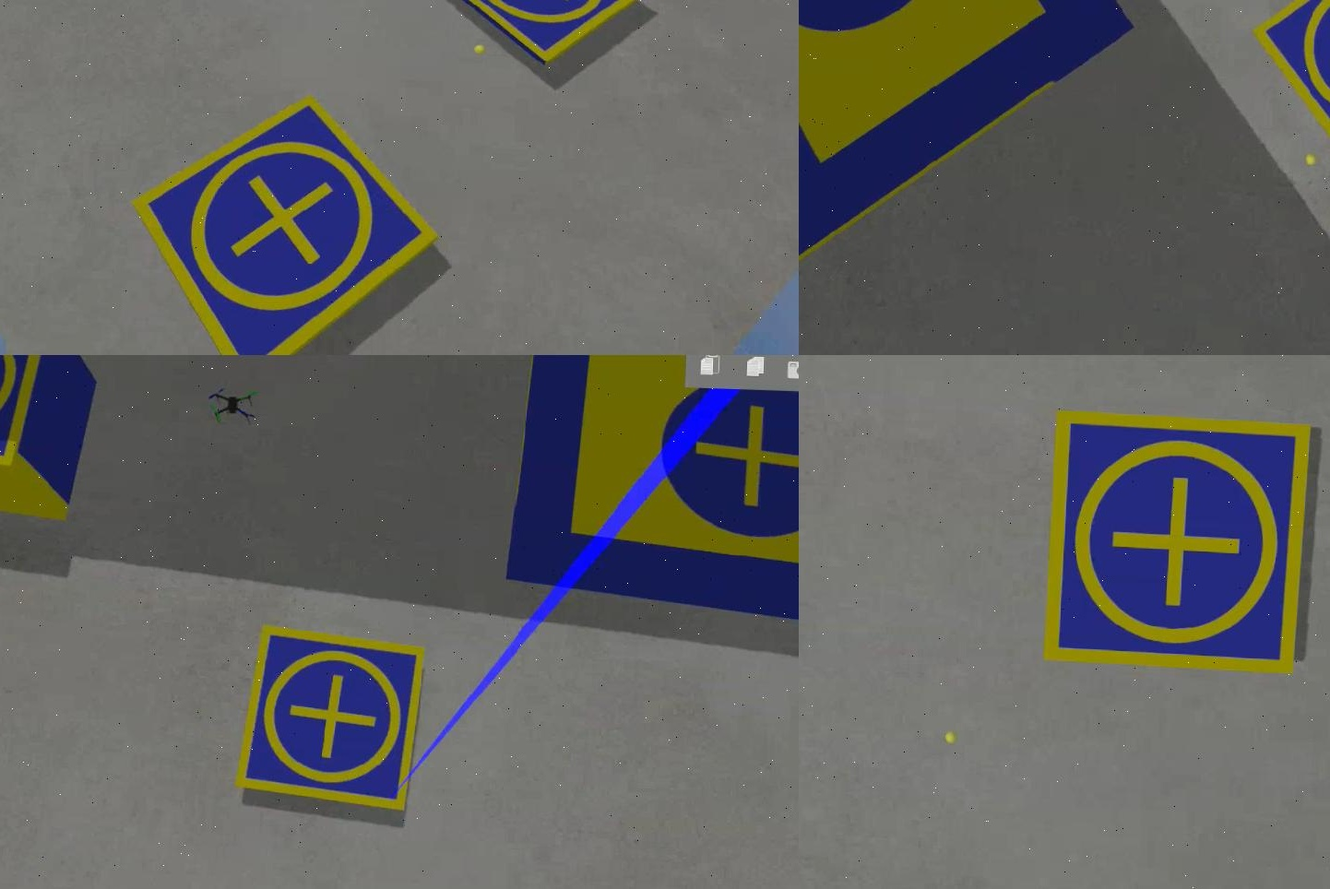large_base: (797, 1, 1140, 277), (500, 356, 797, 646)
small_base: (126, 89, 443, 356), (1039, 409, 1311, 675), (229, 620, 429, 819), (422, 1, 654, 70), (1245, 1, 1328, 185)
